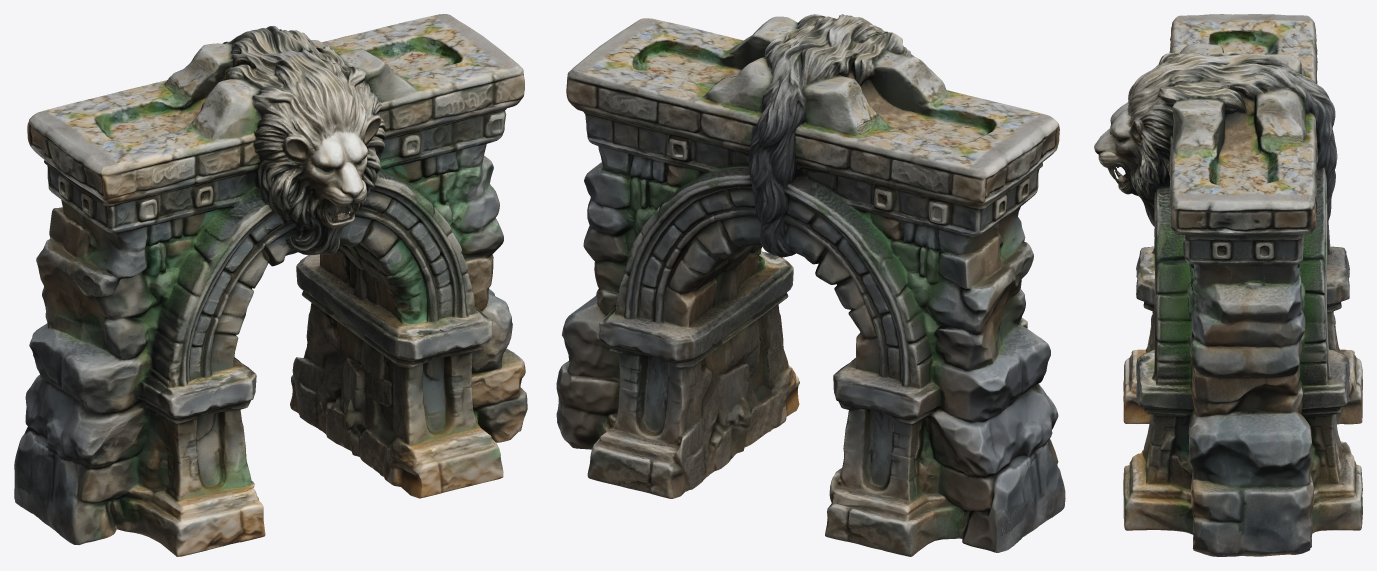
File: wonder_lion_gate__lion-gate-arch.glb
3 renders of one model, left to right at view 1: azimuth 30°, elevation 25°; view 2: azimuth 150°, elevation 25°; view 3: azimuth 270°, elevation 25°, orthographic. The views are drawn at different scales.
Bounding box in the file's own units: 2 × 1.8 × 1.1.
1 material, 1 textured.
